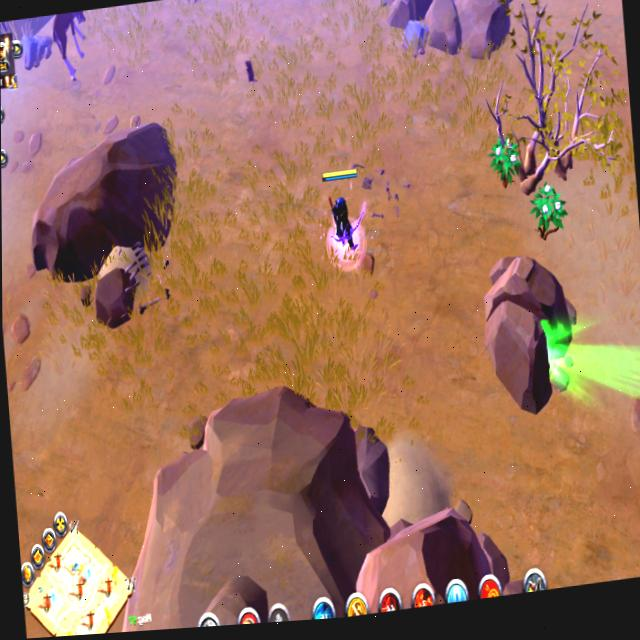hide: (528, 174, 570, 244), (487, 129, 524, 194)
ore: (44, 9, 94, 89)
red: (317, 161, 369, 268)
